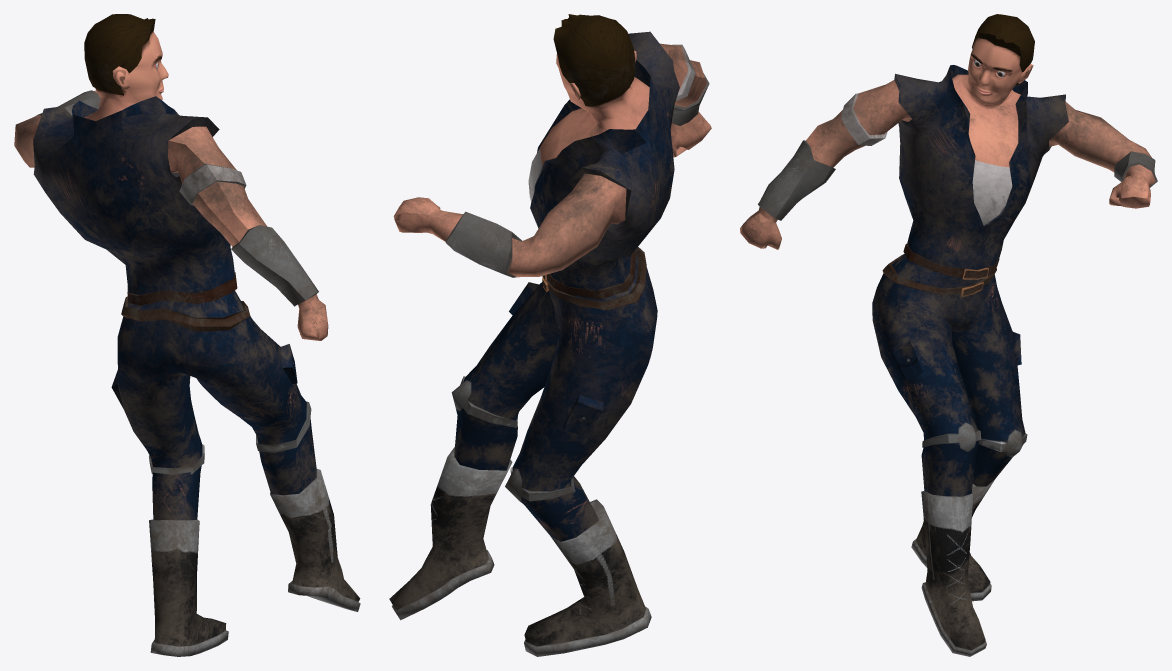
Rendered from Anim_ataque_f1_jugador.0025.obj.
3 views of the same model, side by side, from view 1: azimuth 30°, elevation 25°; view 2: azimuth 150°, elevation 25°; view 3: azimuth 270°, elevation 25° (orthographic). The views are drawn at different scales.
Parts seen in each view (by area): view 1: polySurface1; view 2: polySurface1; view 3: polySurface1.
Part boxes in pixels (x1=…): polySurface1: x1=14, y1=14, x2=360, y2=656; polySurface1: x1=389, y1=14, x2=711, y2=656; polySurface1: x1=740, y1=14, x2=1157, y2=656.
Bounding box in the file's own units: 4.31 × 9.27 × 6.37.
